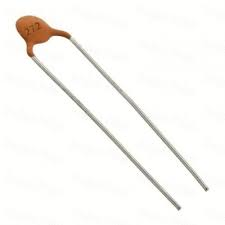ceramic capacitor: (14, 12, 85, 80)
